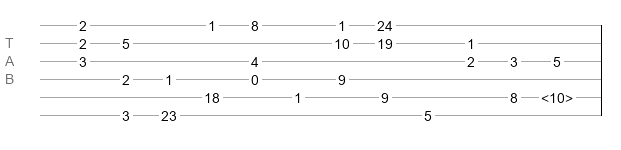0: (251, 72, 259, 82)
1: (165, 72, 173, 82), (208, 18, 216, 28), (294, 90, 302, 100), (338, 18, 346, 28), (467, 36, 475, 46)
10: (334, 36, 350, 46)
18: (204, 90, 220, 100)
19: (377, 36, 393, 46)
2: (79, 18, 87, 28), (79, 36, 87, 46), (122, 72, 130, 82), (467, 54, 475, 64)
23: (161, 108, 177, 118)
24: (377, 18, 393, 28)
3: (79, 54, 87, 64), (122, 108, 130, 118), (510, 54, 518, 64)
4: (251, 54, 259, 64)
5: (122, 36, 130, 46), (424, 108, 432, 118), (553, 54, 561, 64)
8: (251, 18, 259, 28), (510, 90, 518, 100)
9: (338, 72, 346, 82), (381, 90, 389, 100)
harmonic: (541, 90, 573, 100)
